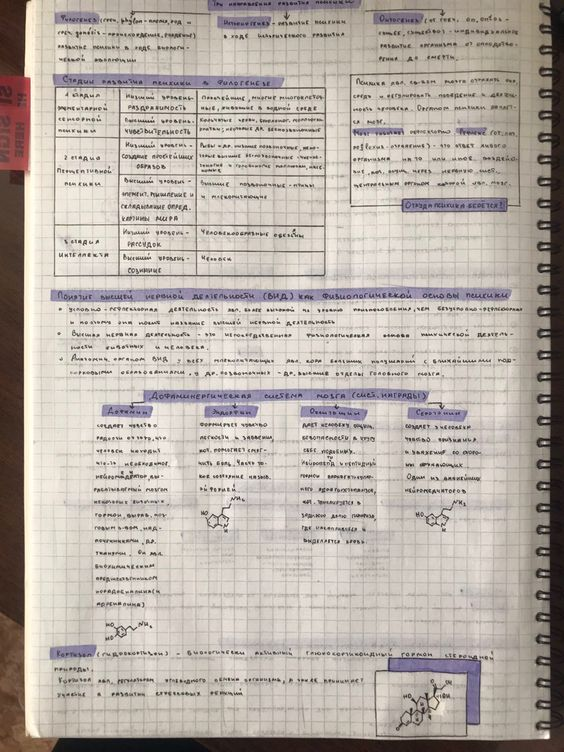page: (32, 4, 535, 739)
